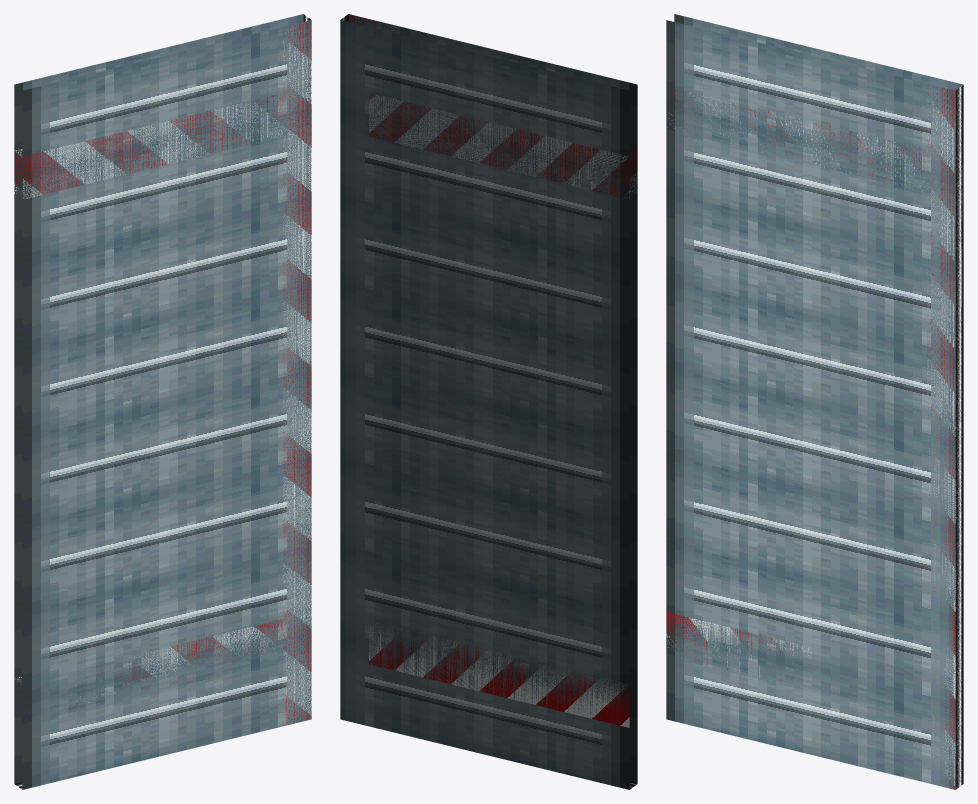
File: Pdoor_st_arec1Z.obj
3 renders of one model, left to right at view 1: azimuth 30°, elevation 25°; view 2: azimuth 150°, elevation 25°; view 3: azimuth 330°, elevation 25°, orthographic.
Size of the model in its own units: 606 by 1400 by 30.
Materials: 3 (3 with a texture image).
